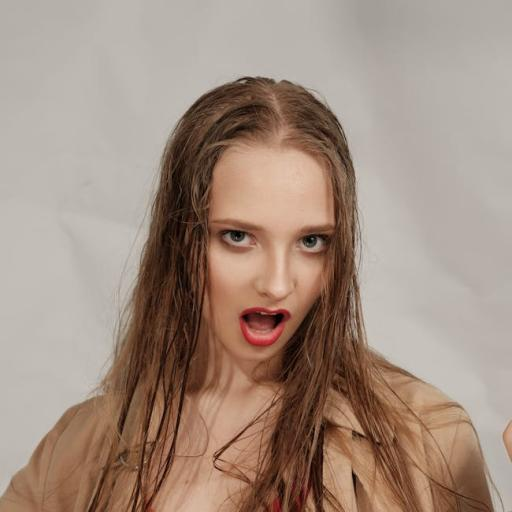lipstick: (240, 308, 289, 346)
